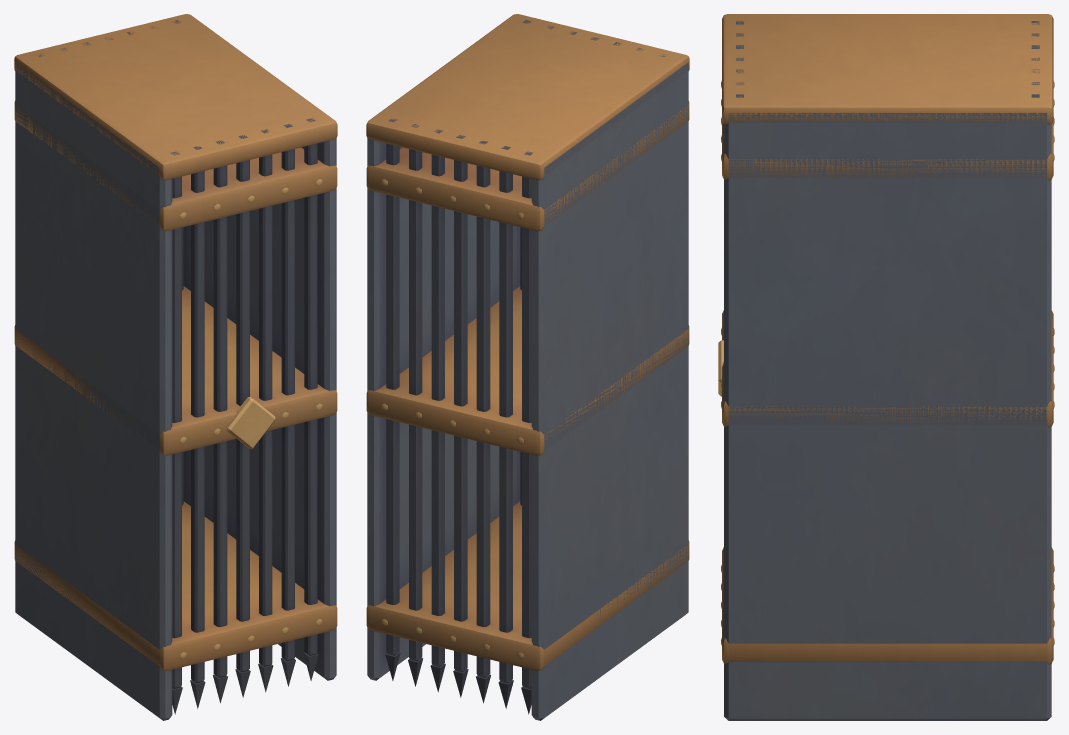
The model's file is EF_G04_IronPortcullis.fbx.
3 renders of one model, left to right at view 1: azimuth 30°, elevation 25°; view 2: azimuth 150°, elevation 25°; view 3: azimuth 270°, elevation 25°, orthographic. The views are drawn at different scales.
Parts seen in each view (by area): view 1: Grate; view 2: Grate; view 3: Grate.
Boxes of the visible parts, x1,y1,x2,y2 form: Grate: (14, 14, 337, 720); Grate: (366, 14, 689, 720); Grate: (718, 14, 1054, 720).
Bounding box in the file's own units: 0.99 × 3 × 1.48.
